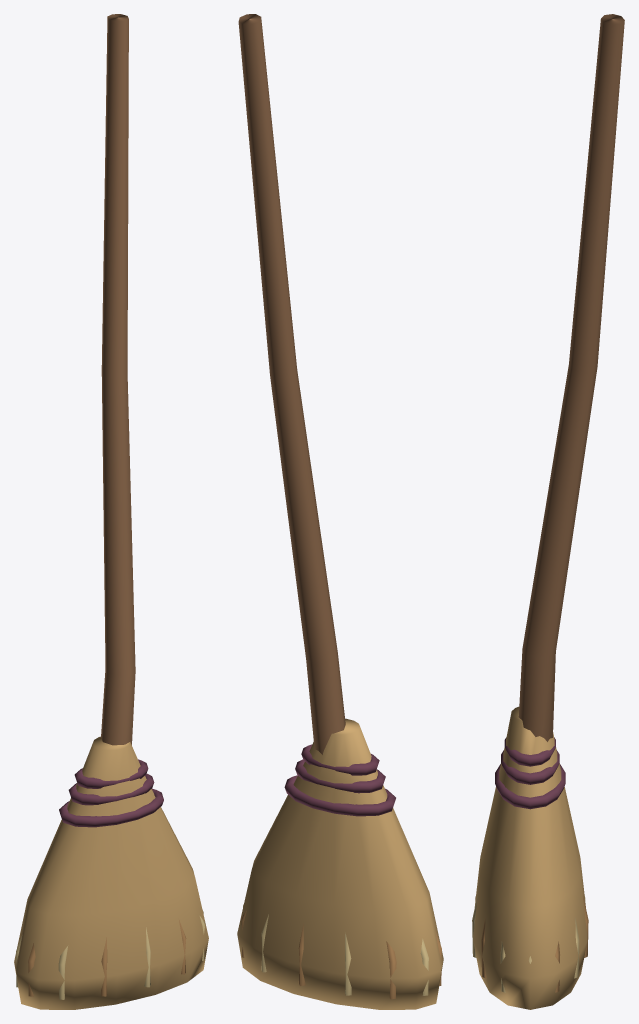
File: broom.glb
The picture shows the model from 3 angles, left to right: view 1: azimuth 30°, elevation 25°; view 2: azimuth 150°, elevation 25°; view 3: azimuth 270°, elevation 25°; orthographic projection. The views are drawn at different scales.
Visible parts, largest first — view 1: broom; view 2: broom; view 3: broom.
Part boxes in pixels (box(x1,y1,x2,y2)): broom: box(14, 14, 208, 1009); broom: box(237, 14, 443, 1009); broom: box(472, 14, 624, 1009).
Size of the model in its own units: 0.3 by 1.4 by 0.2.
